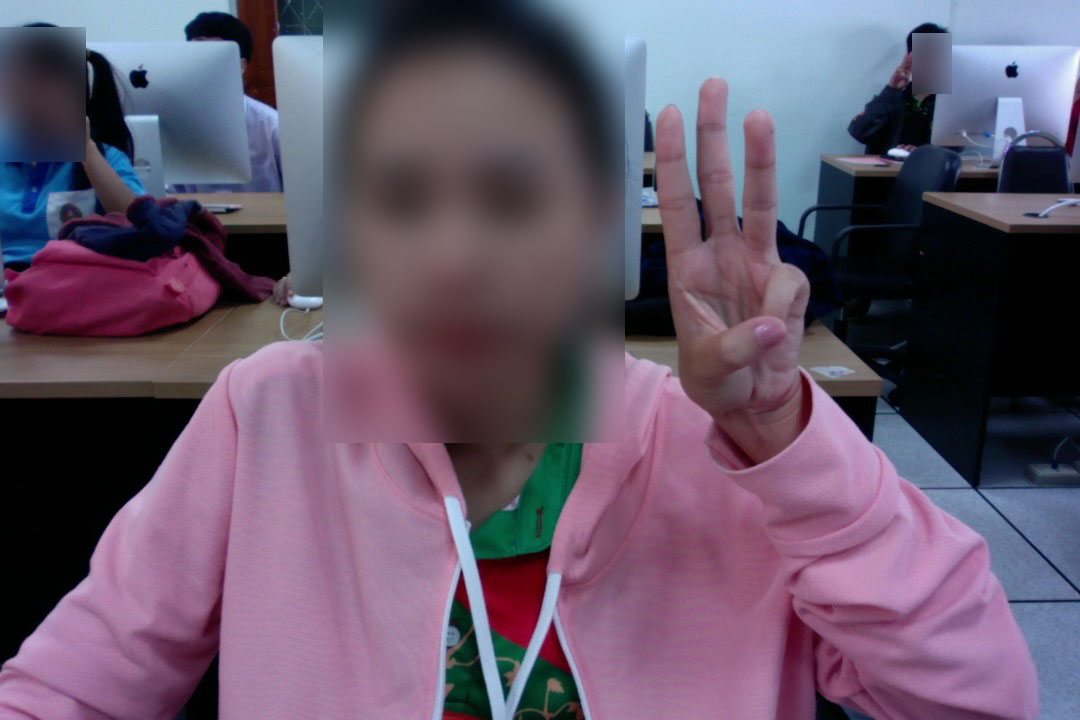wor: (651, 70, 814, 425)
